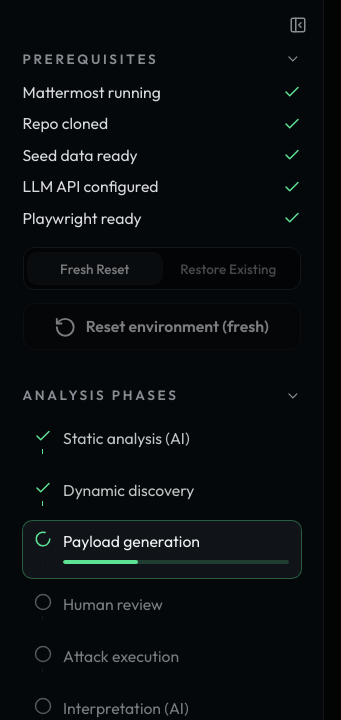
Sidebar › marks phase state on the collapsed rail's phase stepper
Click the button named "collapse sidebar": (298, 25) [282,9,314,40]
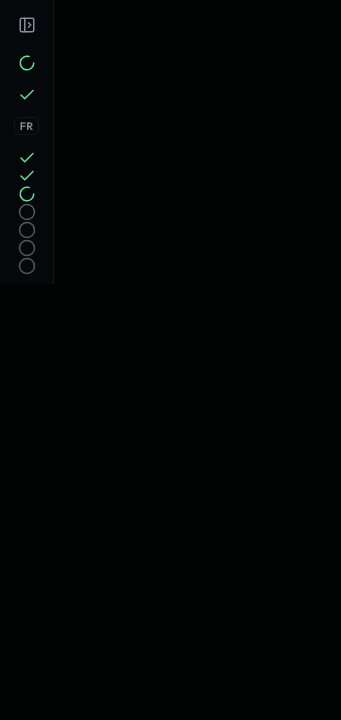
Expected: the element named "Static analysis (AI)" has attribute data-phase-state="done", [18,149,36,167]
Expected: the element named "Payload generation" has attribute data-phase-state="active", [18,185,36,203]
Expected: the element named "Correlation" has attribute data-phase-state="pending", [18,257,36,275]
